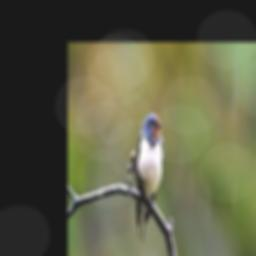Swallow: (135, 113, 164, 243)
